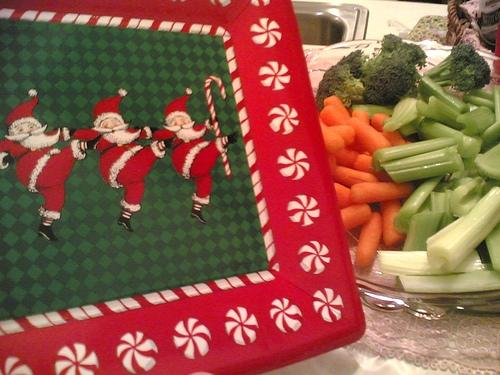broccoli: (360, 32, 428, 110), (424, 44, 492, 94), (315, 62, 367, 114)
carrot: (319, 104, 365, 154), (348, 118, 392, 155), (356, 211, 383, 267), (351, 182, 416, 204), (372, 112, 408, 148), (380, 200, 406, 247), (333, 164, 380, 190), (354, 154, 395, 182), (319, 118, 345, 155), (340, 204, 372, 231), (324, 96, 352, 120), (333, 182, 356, 210), (327, 125, 356, 146), (352, 110, 370, 126)
celery: (426, 181, 500, 272), (380, 145, 465, 184), (395, 263, 500, 294), (393, 174, 446, 234), (372, 136, 455, 174), (378, 249, 486, 276), (418, 117, 482, 158), (418, 74, 471, 114), (416, 95, 466, 132), (402, 211, 444, 251), (449, 176, 485, 219), (382, 97, 420, 132), (456, 106, 496, 136), (430, 189, 456, 232), (473, 144, 500, 180), (476, 120, 500, 153), (462, 89, 495, 112), (485, 224, 500, 272), (352, 104, 396, 120), (397, 114, 427, 137), (493, 85, 500, 122), (463, 156, 476, 170), (442, 177, 456, 187)
